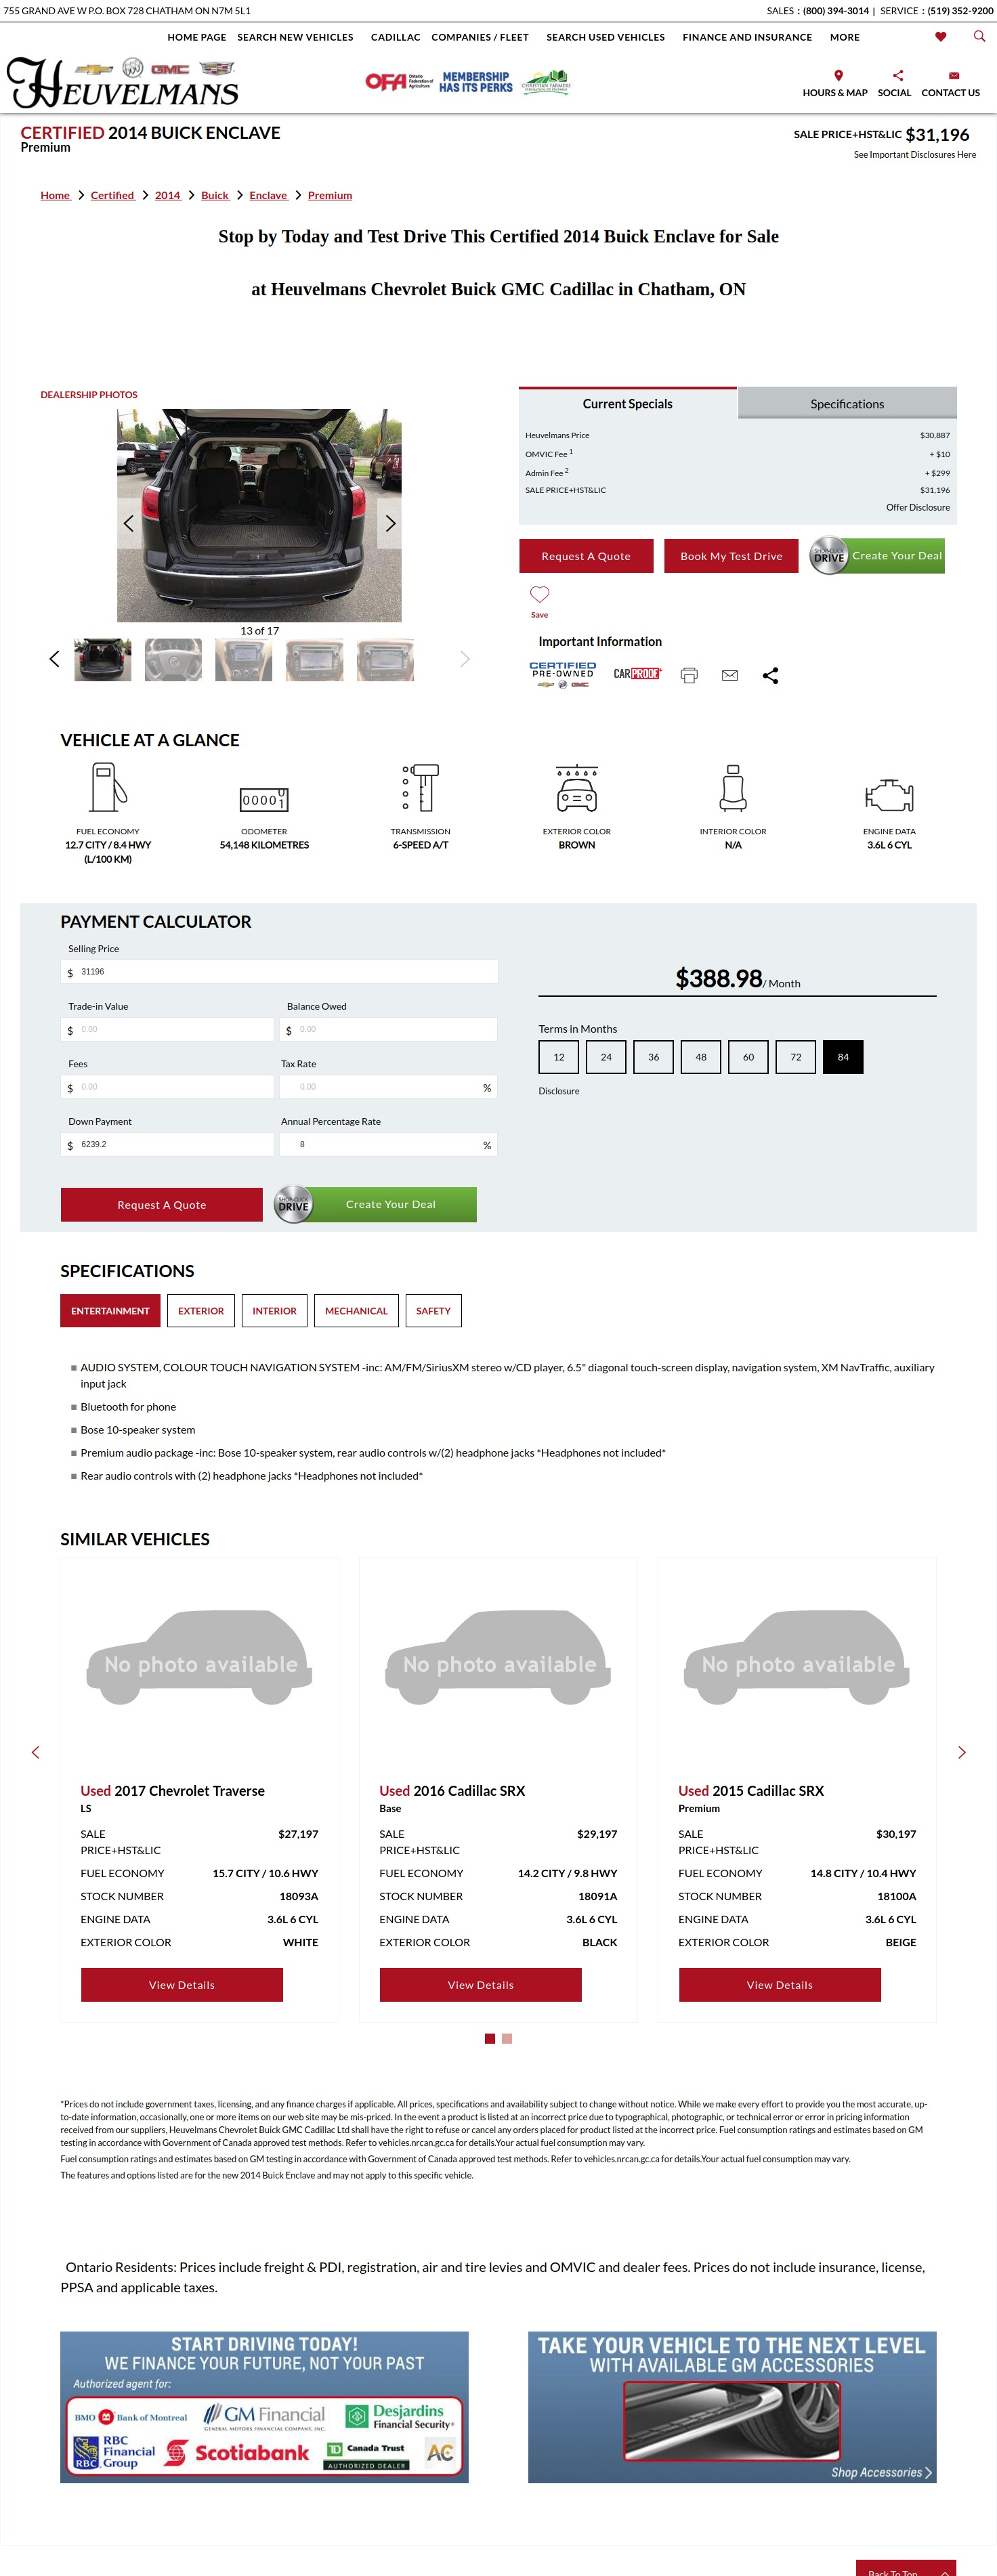car: (386, 516, 397, 532)
